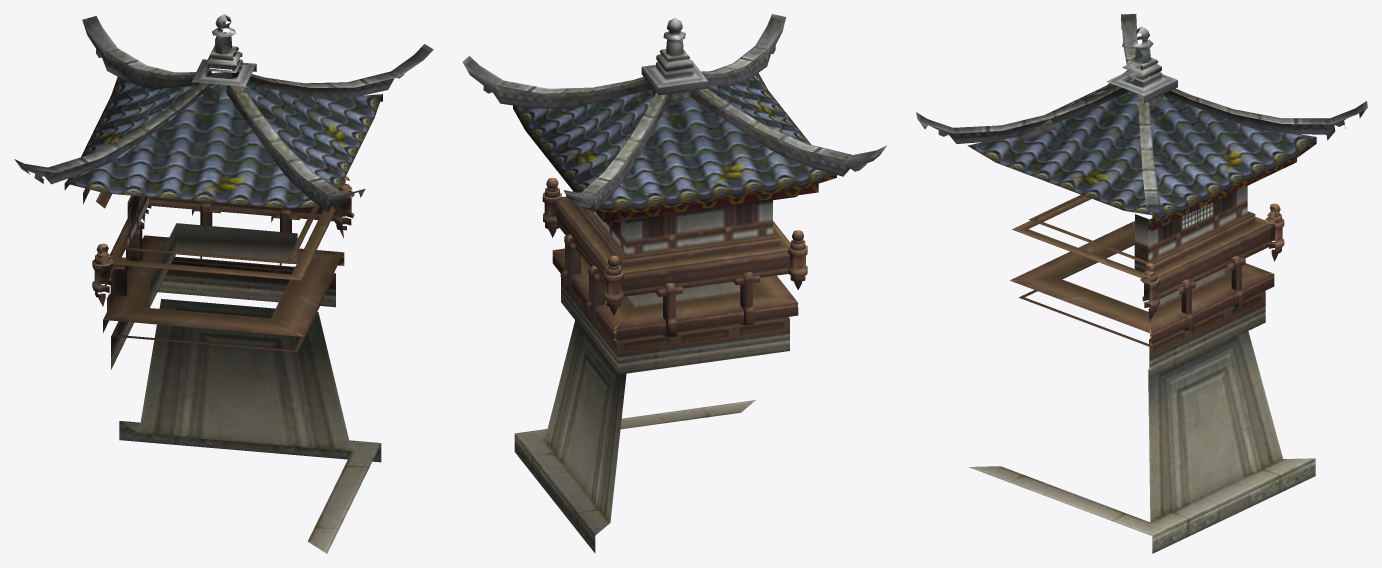
Rendered from S2_Build_XSC016_H6.FBX.
3 renders of one model, left to right at view 1: azimuth 30°, elevation 25°; view 2: azimuth 150°, elevation 25°; view 3: azimuth 270°, elevation 25°, orthographic. The views are drawn at different scales.
Visible parts, largest first — view 1: S2_Build_XSC016_H6; view 2: S2_Build_XSC016_H6; view 3: S2_Build_XSC016_H6.
Part boxes in pixels (x1=…): S2_Build_XSC016_H6: x1=14, y1=14, x2=433, y2=553; S2_Build_XSC016_H6: x1=462, y1=14, x2=886, y2=553; S2_Build_XSC016_H6: x1=916, y1=14, x2=1367, y2=553.
Size of the model in its own units: 1332 by 1472 by 1326.
